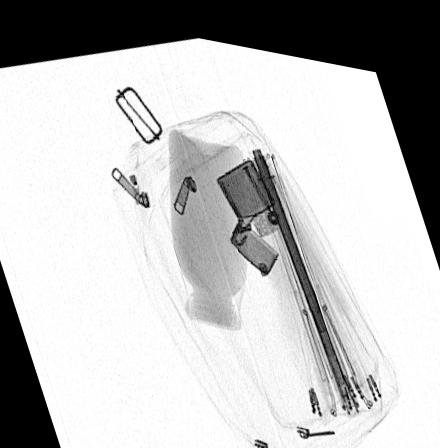Lighter: (215, 149, 281, 264)
